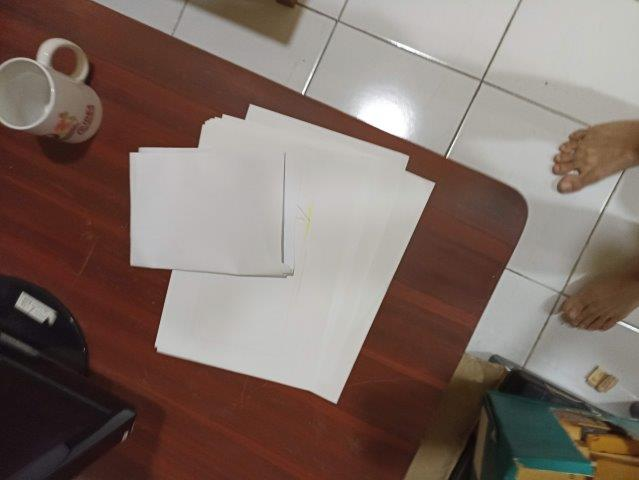kertas: (129, 103, 436, 403)
